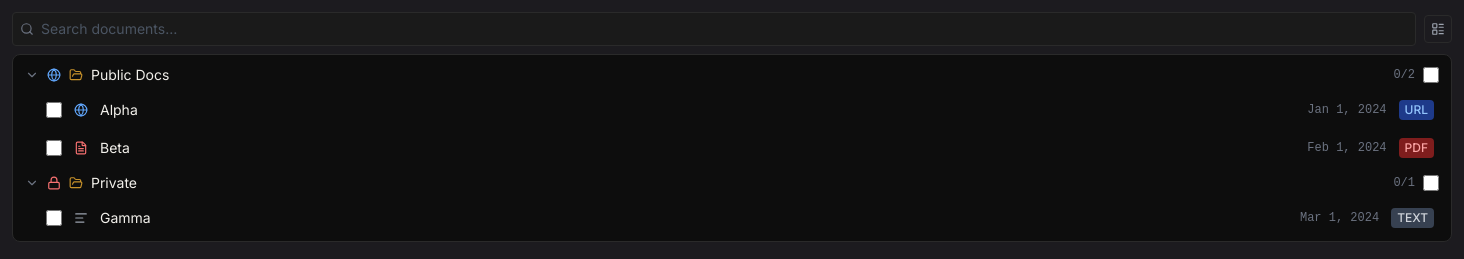
Test: SourceSelector › search filter › filters documents by search query in flat view
expect the text "Public Docs" is shown: met, box [91,66,169,83]
// Switch to flat view
Click the button named "Toggle view mode": click(1438, 29) [1424,15,1452,43]
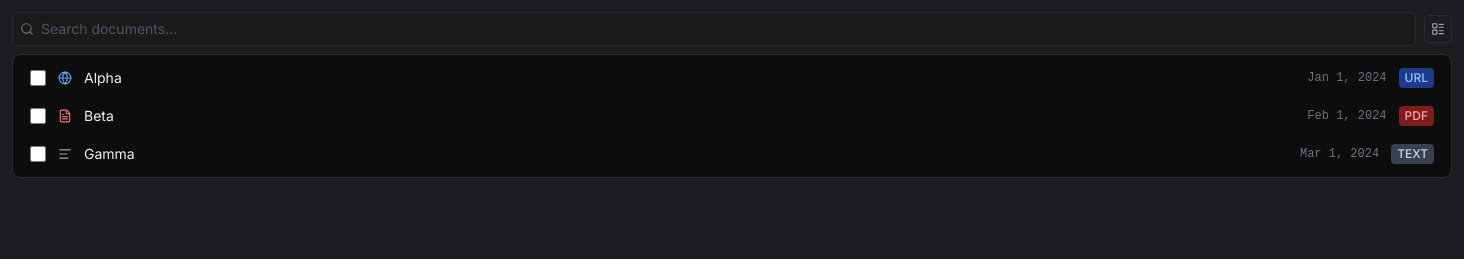
// Type in search
In the field labelled "Search documents": (714, 29) [12,12,1416,46], type "Alpha"
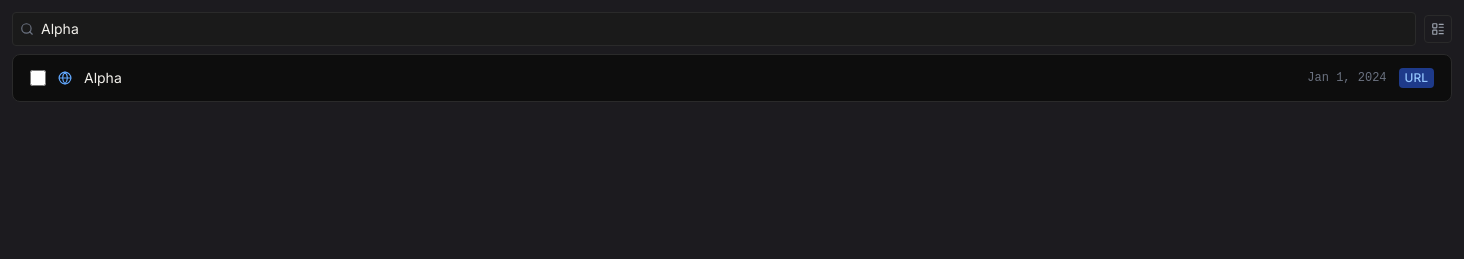
expect the text "Alpha" is shown: met, box [84,69,122,86]
expect the text "Beta" is gone: met
